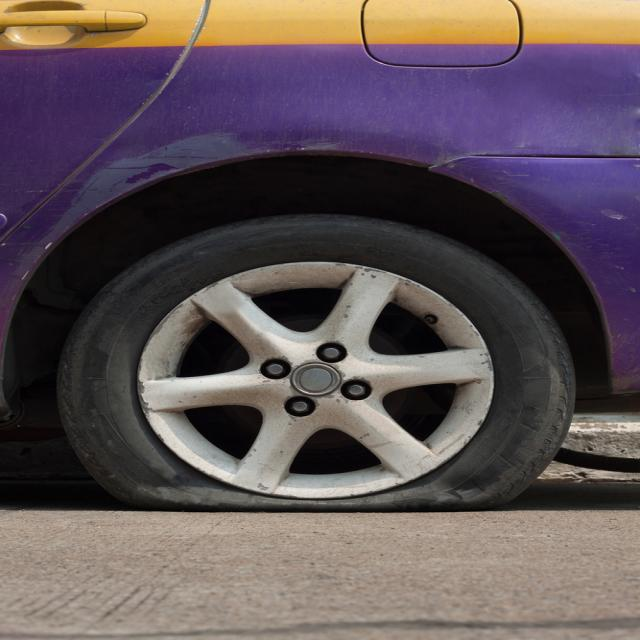tire flat: (57, 198, 572, 511)
